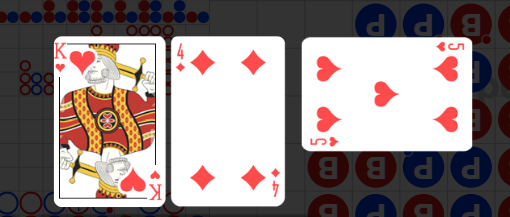5H: (309, 135, 341, 148), (434, 41, 465, 54)
KH: (54, 41, 67, 74)
